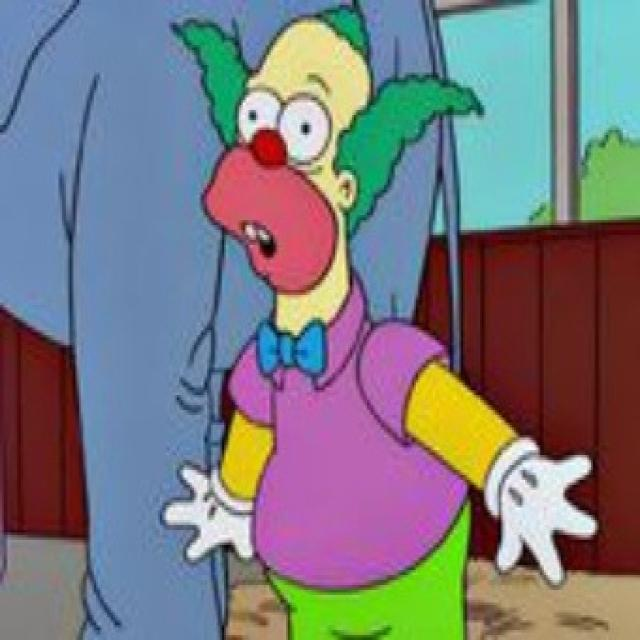Krusty the Clown: (172, 10, 492, 335)
